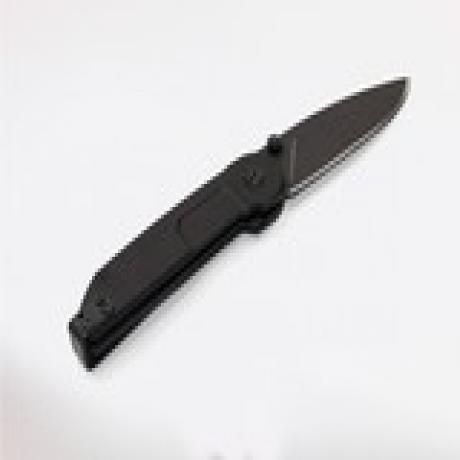weapon: (65, 74, 407, 370)
